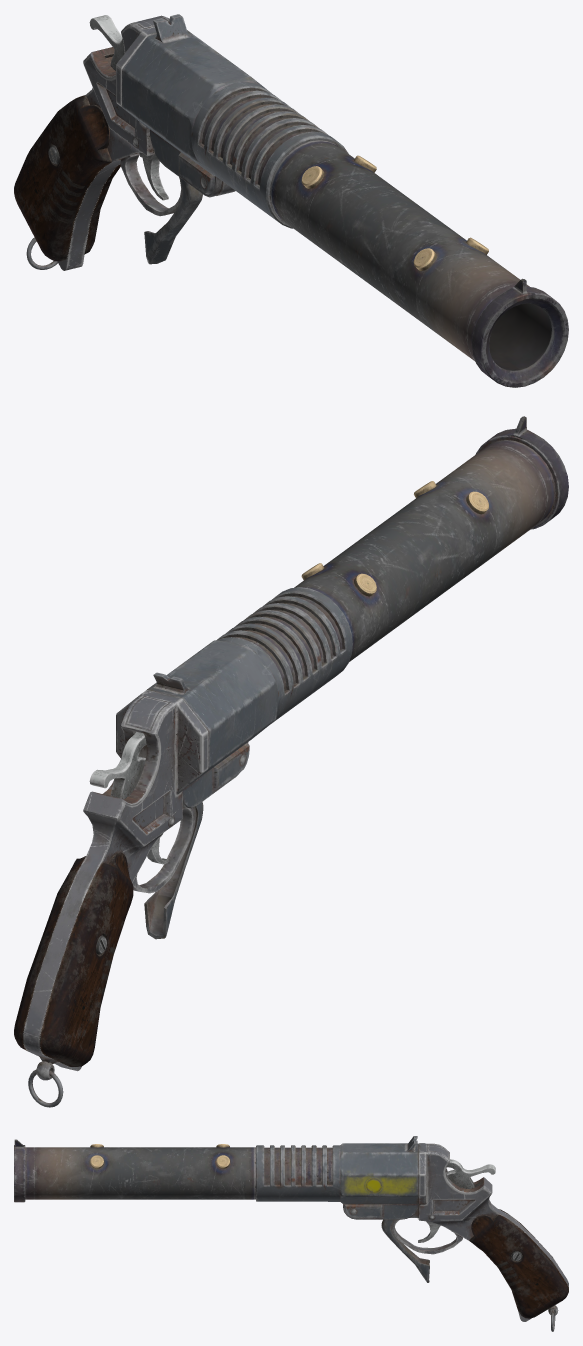
3 views of the same model, one above another, from view 1: azimuth 30°, elevation 25°; view 2: azimuth 150°, elevation 25°; view 3: azimuth 270°, elevation 25° (orthographic). The views are drawn at different scales.
Visible parts, largest first — view 1: Body_standardSurface3SG; view 2: Body_standardSurface3SG; view 3: Body_standardSurface3SG.
Part boxes in pixels (<box>): Body_standardSurface3SG: <box>14,14,568,387</box>; Body_standardSurface3SG: <box>14,416,568,1107</box>; Body_standardSurface3SG: <box>14,1136,568,1331</box>.
Size of the model in its own units: 0.036 by 0.1332 by 0.35.
1 material, 1 textured.
